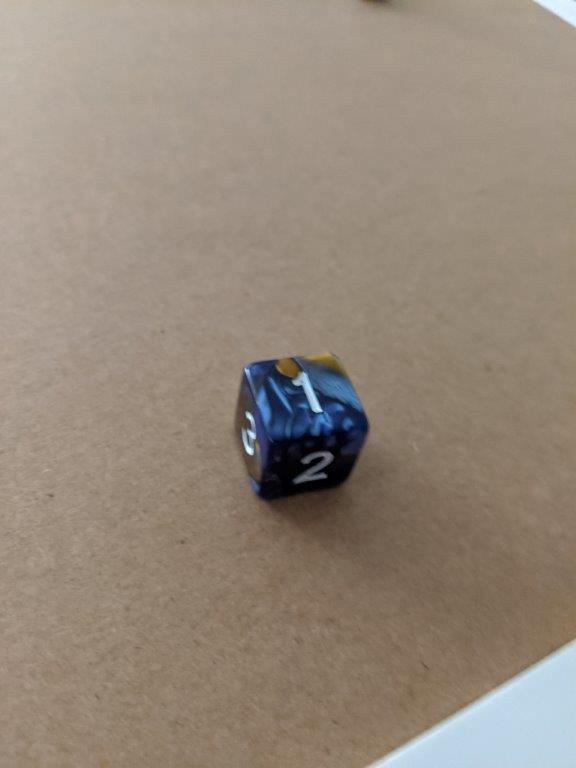d6-1: (236, 350, 371, 501)
